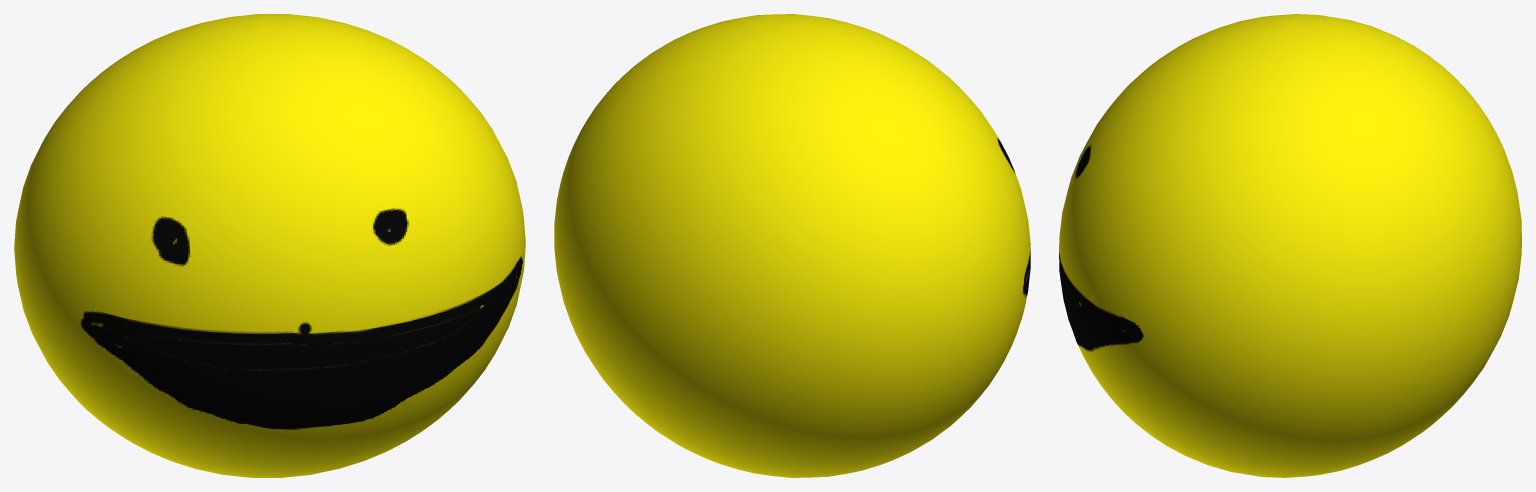
File: Player1.fbx
3 renders of one model, left to right at view 1: azimuth 30°, elevation 25°; view 2: azimuth 150°, elevation 25°; view 3: azimuth 270°, elevation 25°, orthographic.
Parts seen in each view (by area): view 1: root; view 2: root; view 3: root.
Boxes of the visible parts, bbox=[...] form: root: bbox=[14, 14, 525, 477]; root: bbox=[554, 14, 1030, 477]; root: bbox=[1059, 14, 1521, 477].
Size of the model in its own units: 203 by 187 by 190.
1 material, 1 textured.
